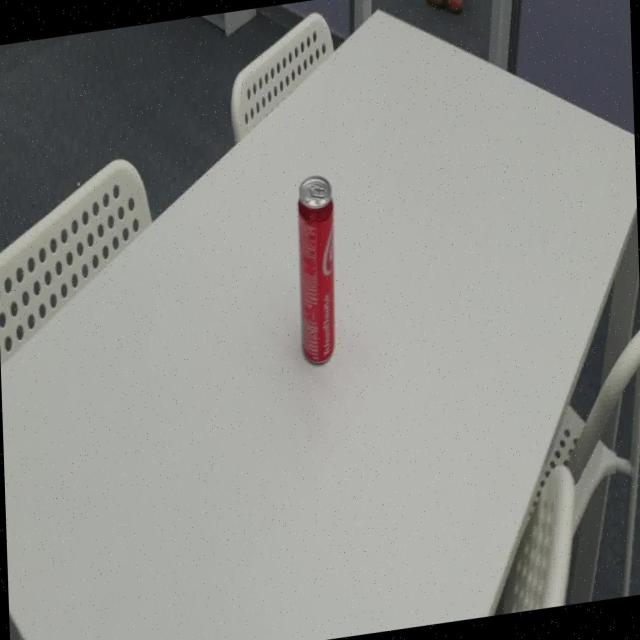coca-cola: (294, 171, 339, 374)
